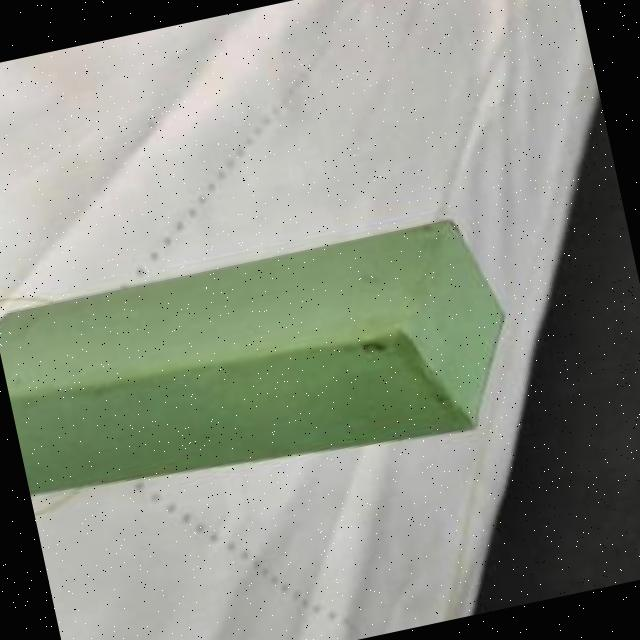greenbox: (0, 208, 527, 521)
